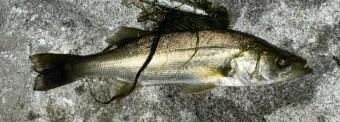fish: (31, 16, 311, 102)
